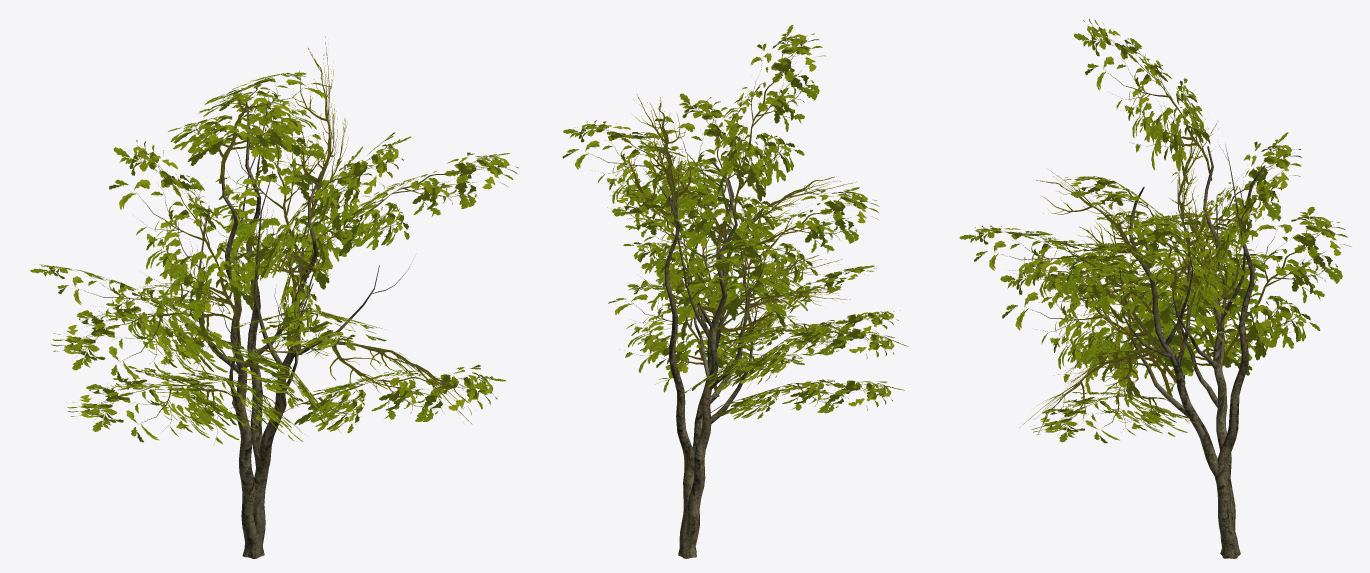
Rendered from Tree_1.fbx.
3 views of the same model, side by side, from view 1: azimuth 30°, elevation 25°; view 2: azimuth 150°, elevation 25°; view 3: azimuth 270°, elevation 25° (orthographic). The views are drawn at different scales.
Parts seen in each view (by area): view 1: leafplanes_4_13_3_43; view 2: leafplanes_4_13_3_43; view 3: leafplanes_4_13_3_43.
Part boxes in pixels (bbox=[...]): leafplanes_4_13_3_43: bbox=[30, 36, 518, 558]; leafplanes_4_13_3_43: bbox=[562, 25, 908, 558]; leafplanes_4_13_3_43: bbox=[959, 19, 1350, 558].
Size of the model in its own units: 210 by 254 by 182.
Materials: 1 (1 with a texture image).
